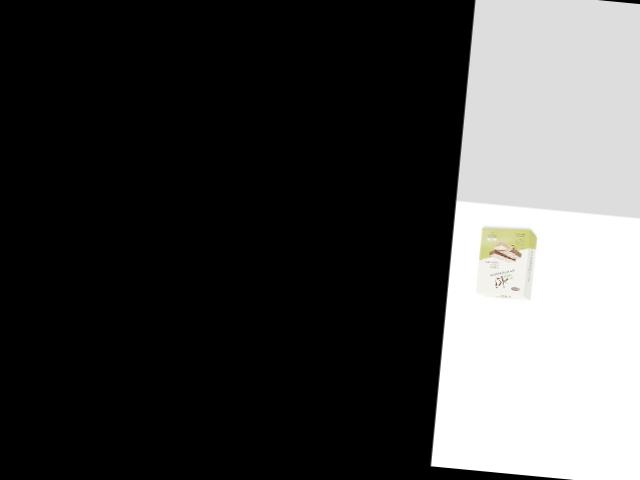chocolate: (469, 221, 541, 302)
